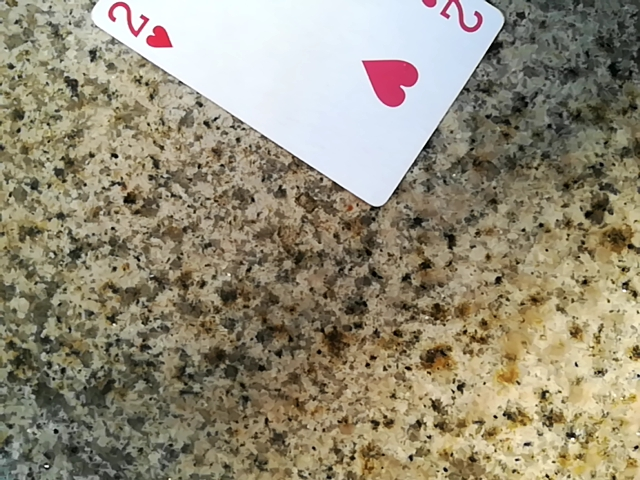hx 2: (71, 0, 501, 209)
